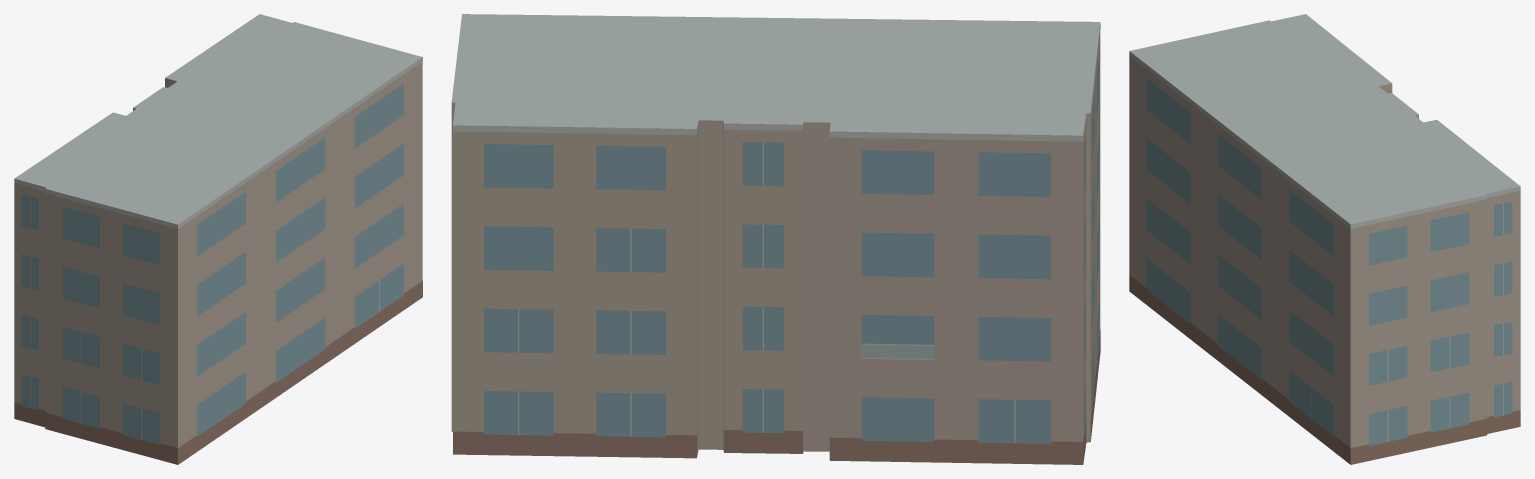
Rendered from survey-upis-32840242.glb.
3 views of the same model, side by side, from view 1: azimuth 30°, elevation 25°; view 2: azimuth 150°, elevation 25°; view 3: azimuth 270°, elevation 25° (orthographic). The views are drawn at different scales.
Parts seen in each view (by area): view 1: survey-upis-32840242.tmp; view 2: survey-upis-32840242.tmp; view 3: survey-upis-32840242.tmp.
Boxes of the visible parts, <box> form: survey-upis-32840242.tmp: <box>14,14,422,464</box>; survey-upis-32840242.tmp: <box>451,14,1100,464</box>; survey-upis-32840242.tmp: <box>1129,14,1520,464</box>.
Bounding box in the file's own units: 24.6 × 13.1 × 19.33.
